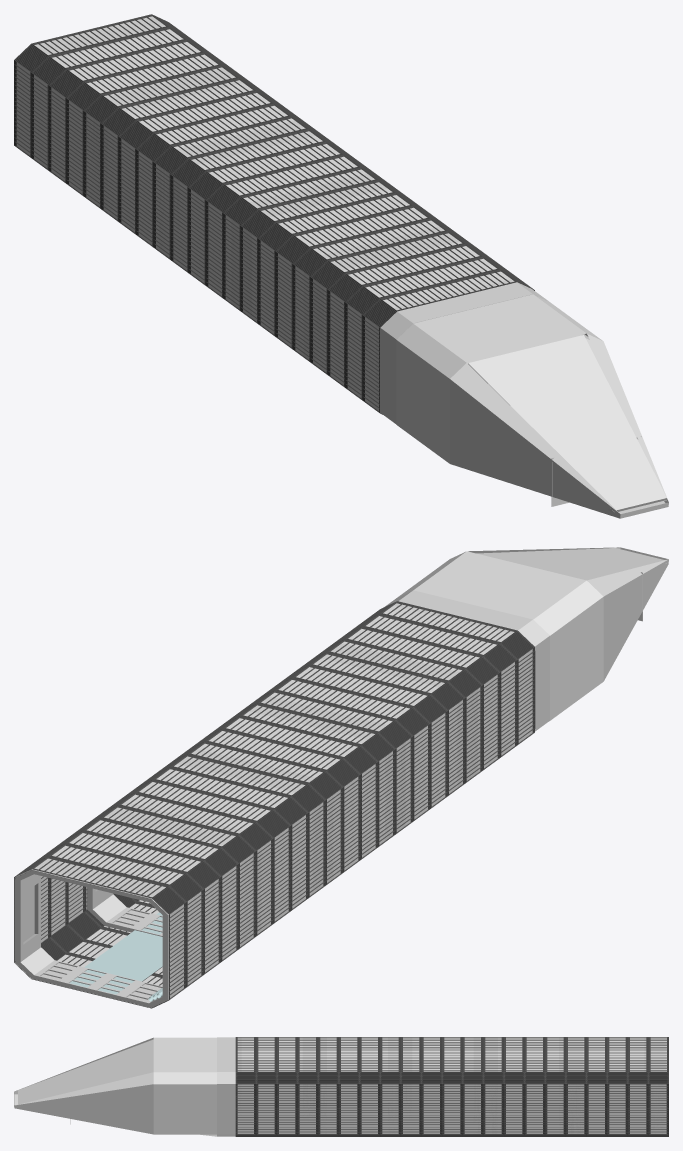
The model's file is ship-01.fbx.
3 views of the same model, one above another, from view 1: azimuth 30°, elevation 25°; view 2: azimuth 150°, elevation 25°; view 3: azimuth 270°, elevation 25° (orthographic). The views are drawn at different scales.
Parts seen in each view (by area): view 1: Wireframe, Base, Cockpit, Brackets, Window; view 2: Wireframe, Base, Brackets, Cockpit, Window, Floor; view 3: Wireframe, Base, Cockpit, Brackets, Window.
Part boxes in pixels (box(x1,y1,x2,y2)): Wireframe: box(14, 14, 534, 414); Base: box(16, 30, 511, 412); Cockpit: box(396, 294, 668, 518); Brackets: box(16, 16, 548, 423); Window: box(468, 335, 666, 511); Wireframe: box(14, 601, 535, 1008); Base: box(14, 605, 532, 1007); Brackets: box(15, 590, 549, 1007); Cockpit: box(397, 547, 668, 720); Window: box(476, 548, 666, 580); Floor: box(69, 912, 162, 994); Wireframe: box(235, 1037, 668, 1136); Base: box(237, 1037, 666, 1133); Cockpit: box(14, 1037, 216, 1136); Brackets: box(217, 1037, 666, 1136); Window: box(18, 1039, 153, 1105).
Bounding box in the file's own units: 954 × 647 × 5893.
